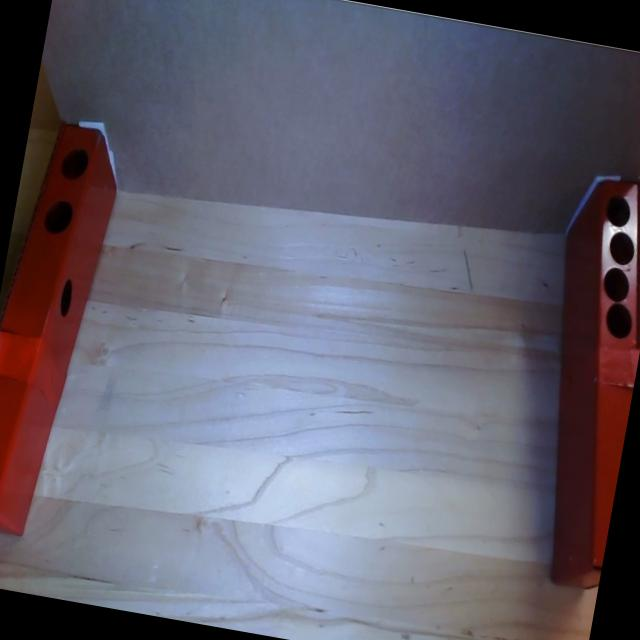Hole: (602, 300, 635, 340), (42, 198, 74, 236), (600, 266, 632, 304), (59, 146, 90, 182), (606, 230, 637, 266), (602, 192, 632, 229), (56, 277, 76, 318)
